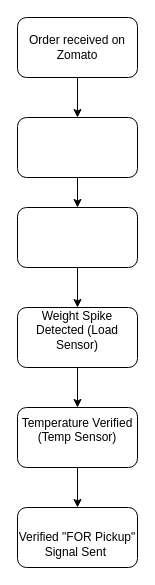
The diagram is 155 pixels wide and 585 high, and some of its shapes have lost their labels. Each missing label, with the box of its shape:
Cubby Station Assigned: (16, 116, 138, 178)
Merchant Places Food in Cubby: (16, 206, 138, 268)
